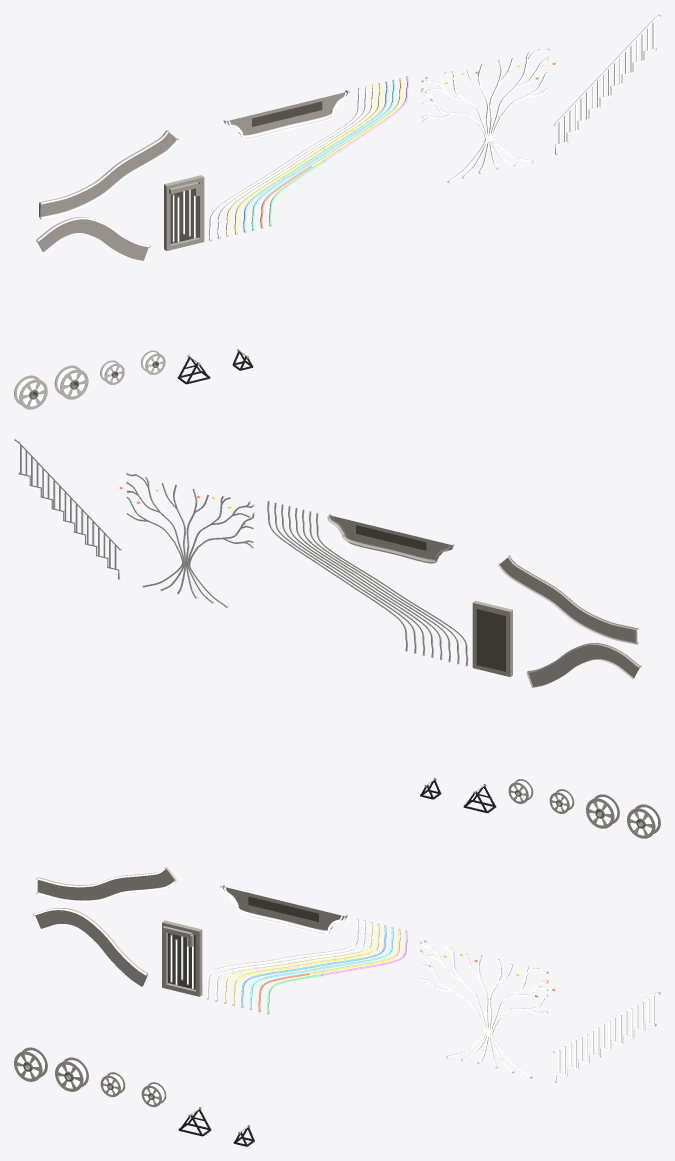
The model's file is rope_wall.glb.
The picture shows the model from 3 angles, top to bottom: view 1: azimuth 30°, elevation 25°; view 2: azimuth 150°, elevation 25°; view 3: azimuth 330°, elevation 25°; orthographic projection.
Parts seen in each view (by area): view 1: RW_ART_PANEL, RW_NEON_2.4,1.85,1.15, RW_NEON_BASE, RW_ART_PANEL_DARK, REEL_L_SMD, REEL_L_COB; view 2: RW_NEON_BASE, RW_ART_PANEL, RW_ART_PANEL_DARK, REEL_L_SMD, REEL_L_COB, RW_NEON_2.4,1.85,1.15, RW_NEON_CLIP; view 3: RW_ART_PANEL, RW_NEON_2.4,1.85,1.15, RW_NEON_BASE, RW_ART_PANEL_DARK, REEL_L_SMD, REEL_L_COB, RW_NEON_CLIP, REEL_S_COB, REEL_S_SMD, RW_NEON_2.3,2.3,2.35, RW_NEON_0.3,0.75,2.8, RW_NEON_2.4,1.9,0.5.
Boxes of the visible parts, x1,y1,x2,y2 form: RW_ART_PANEL: [36, 90, 347, 260]; RW_NEON_2.4,1.85,1.15: [38, 15, 659, 247]; RW_NEON_BASE: [37, 15, 658, 245]; RW_ART_PANEL_DARK: [170, 101, 322, 243]; REEL_L_SMD: [14, 375, 47, 409]; REEL_L_COB: [54, 365, 88, 399]; RW_NEON_BASE: [15, 439, 640, 671]; RW_ART_PANEL: [327, 515, 639, 687]; RW_ART_PANEL_DARK: [356, 525, 505, 671]; REEL_L_SMD: [627, 804, 660, 838]; REEL_L_COB: [586, 794, 619, 828]; RW_NEON_2.4,1.85,1.15: [16, 439, 639, 664]; RW_NEON_CLIP: [14, 438, 641, 672]; RW_ART_PANEL: [35, 867, 347, 996]; RW_NEON_2.4,1.85,1.15: [33, 868, 658, 1081]; RW_NEON_BASE: [34, 868, 659, 1081]; RW_ART_PANEL_DARK: [168, 896, 318, 989]; REEL_L_SMD: [14, 1047, 47, 1081]; REEL_L_COB: [55, 1057, 88, 1091]; RW_NEON_CLIP: [33, 867, 660, 1082]; REEL_S_COB: [141, 1082, 166, 1107]; REEL_S_SMD: [100, 1072, 125, 1097]; RW_NEON_2.3,2.3,2.35: [215, 921, 365, 1000]; RW_NEON_0.3,0.75,2.8: [241, 926, 386, 1007]; RW_NEON_2.4,1.9,0.5: [223, 922, 372, 1002].
Bounding box in the file's own units: 7.87 × 3 × 0.232.
